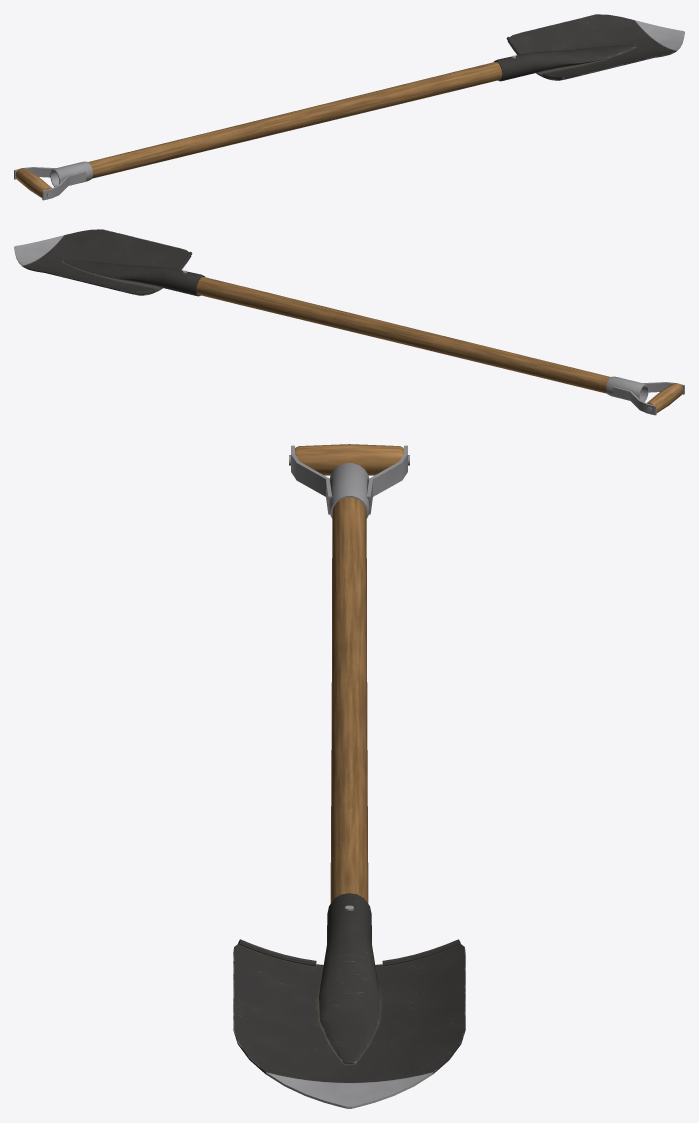
3 renders of one model, top to bottom at view 1: azimuth 30°, elevation 25°; view 2: azimuth 150°, elevation 25°; view 3: azimuth 270°, elevation 25°, orthographic. The views are drawn at different scales.
Parts seen in each view (by area): view 1: cabo, lamina, punho; view 2: cabo, lamina, punho; view 3: lamina, cabo, punho.
Part boxes in pixels (box(x1,y1,x2,y2)): cabo: box(15, 62, 502, 197); lamina: box(494, 14, 684, 81); punho: box(14, 161, 92, 200); cabo: box(196, 277, 683, 412); lamina: box(14, 229, 204, 296); punho: box(606, 376, 684, 415); lamina: box(233, 893, 465, 1108); cabo: box(295, 444, 403, 903); punho: box(289, 445, 409, 518).
Size of the model in its own units: 1.54 by 0.0462 by 0.236.
1 material, 1 textured.
